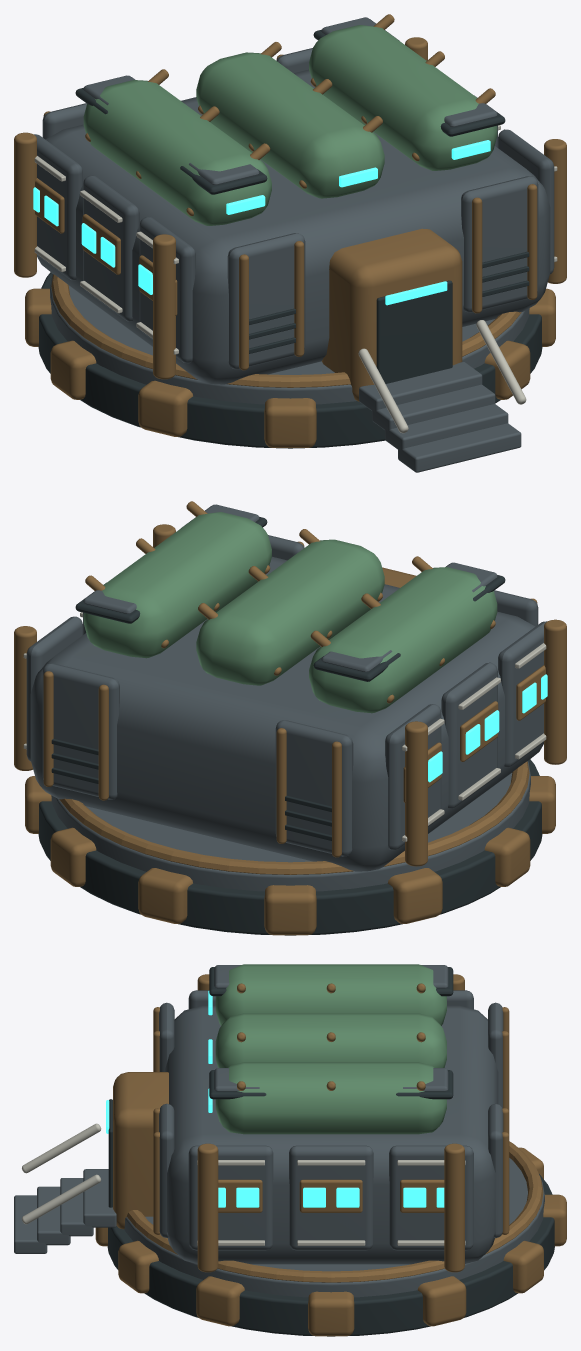
The model's file is vivier.glb.
3 renders of one model, top to bottom at view 1: azimuth 30°, elevation 25°; view 2: azimuth 150°, elevation 25°; view 3: azimuth 270°, elevation 25°, orthographic. The views are drawn at different scales.
Visible parts, largest first — view 1: Compartiment vivant, Bac clos.002, Bac clos, Bac clos.001, Sas, Semelle démontable, Châssis, Panneau de façade, Panneau de façade.001, Porte, Ceinture du châssis, Plaque latérale.001 (+31 smaller); view 2: Compartiment vivant, Bac clos.002, Bac clos, Bac clos.001, Semelle démontable, Châssis, Panneau de façade.002, Panneau de façade.003, Ceinture du châssis, Plaque latérale.001, Plaque latérale, Conduite d’angle.002 (+23 smaller); view 3: Compartiment vivant, Bac clos, Bac clos.002, Semelle démontable, Bac clos.001, Châssis, Sas, Plaque latérale.004, Ceinture du châssis, Plaque latérale.003, Plaque latérale.005, Conduite d’angle.003 (+32 smaller).
Boxes of the visible parts, <box> form: Compartiment vivant: <box>37,69,550,384</box>; Bac clos.002: <box>196,52,384,198</box>; Bac clos: <box>309,25,497,170</box>; Bac clos.001: <box>83,80,271,225</box>; Sas: <box>321,228,462,401</box>; Semelle démontable: <box>38,272,542,448</box>; Châssis: <box>50,274,529,404</box>; Panneau de façade: <box>227,233,305,369</box>; Panneau de façade.001: <box>461,176,538,312</box>; Porte: <box>376,280,452,383</box>; Ceinture du châssis: <box>51,274,521,387</box>; Plaque latérale.001: <box>83,175,139,321</box>; Compartiment vivant: <box>30,556,543,871</box>; Bac clos.002: <box>196,539,384,685</box>; Bac clos: <box>83,512,271,658</box>; Bac clos.001: <box>309,567,497,713</box>; Semelle démontable: <box>38,759,542,935</box>; Châssis: <box>51,761,530,891</box>; Panneau de façade.002: <box>275,720,353,856</box>; Panneau de façade.003: <box>42,663,119,799</box>; Ceinture du châssis: <box>59,761,529,874</box>; Plaque latérale.001: <box>441,662,497,808</box>; Plaque latérale: <box>498,621,547,767</box>; Conduite d’angle.002: <box>405,721,427,866</box>; Compartiment vivant: <box>164,1005,498,1264</box>; Bac clos: <box>215,1062,446,1134</box>; Bac clos.002: <box>215,1013,446,1067</box>; Semelle démontable: <box>107,1174,554,1336</box>; Bac clos.001: <box>215,964,446,1025</box>; Châssis: <box>124,1158,544,1297</box>; Sas: <box>113,1072,168,1229</box>; Plaque latérale.004: <box>289,1145,373,1250</box>; Ceinture du châssis: <box>126,1141,543,1282</box>; Plaque latérale.003: <box>188,1145,273,1250</box>; Plaque latérale.005: <box>389,1145,473,1250</box>; Conduite d’angle.003: <box>197,1143,218,1272</box>.
Size of the model in its own units: 3.67 by 1.94 by 4.3.
